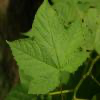Raspberry leaf: (4, 0, 93, 96)
